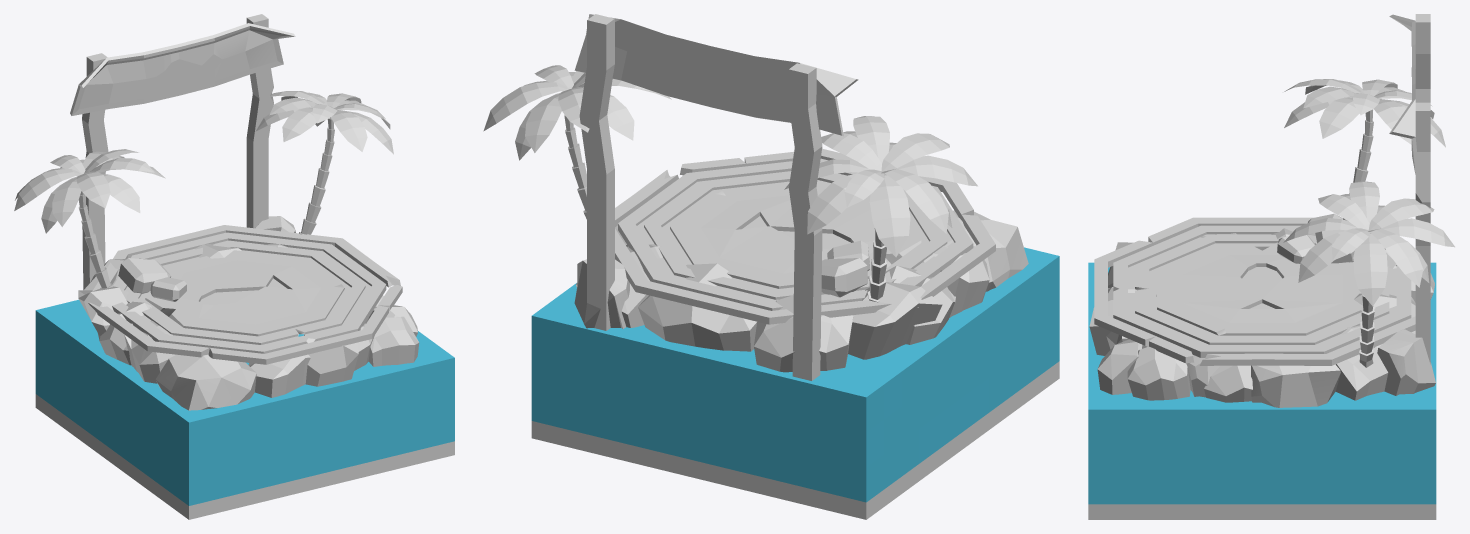
Rendered from PortStart.fbx.
3 renders of one model, left to right at view 1: azimuth 30°, elevation 25°; view 2: azimuth 150°, elevation 25°; view 3: azimuth 270°, elevation 25°, orthographic. The views are drawn at different scales.
Parts seen in each view (by area): view 1: PortStart; view 2: PortStart; view 3: PortStart.
Boxes of the visible parts, box(x1,y1,x2,y2) form: PortStart: box(14, 14, 454, 519); PortStart: box(483, 14, 1059, 519); PortStart: box(1088, 14, 1454, 519).
Bounding box in the file's own units: 2.78 × 2.11 × 2.45.
